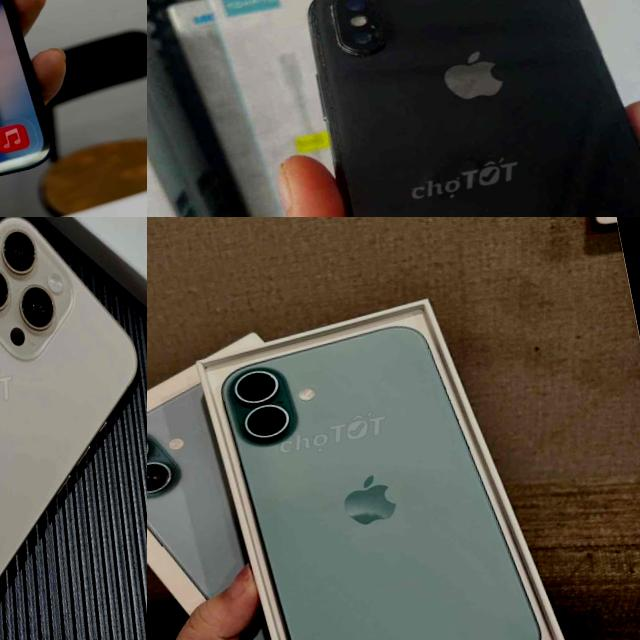scratch: (301, 0, 340, 116), (612, 169, 640, 194), (584, 211, 626, 217), (367, 0, 384, 7)
